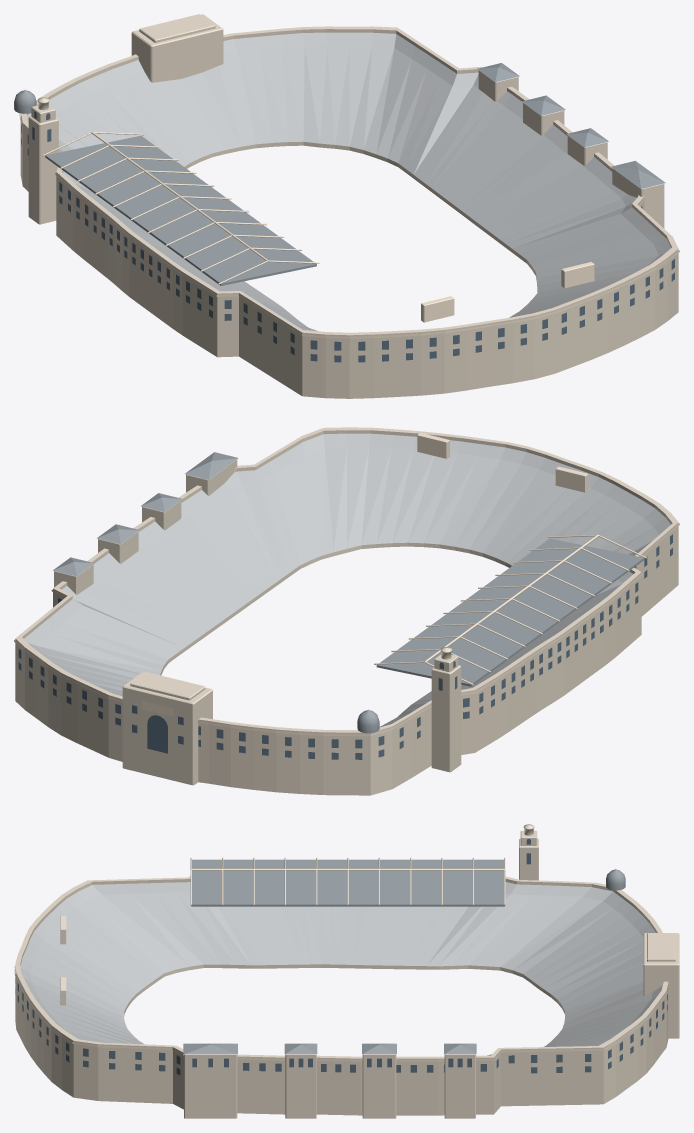
Rendered from barcelona-olympic-stadium.glb.
3 renders of one model, top to bottom at view 1: azimuth 30°, elevation 25°; view 2: azimuth 150°, elevation 25°; view 3: azimuth 270°, elevation 25°, orthographic. The views are drawn at different scales.
Parts seen in each view (by area): view 1: Estadi Olímpic Lluís Companys; view 2: Estadi Olímpic Lluís Companys; view 3: Estadi Olímpic Lluís Companys.
Boxes of the visible parts, x1,y1,x2,y2 form: Estadi Olímpic Lluís Companys: (14,14,679,398); Estadi Olímpic Lluís Companys: (14,427,679,795); Estadi Olímpic Lluís Companys: (14,824,679,1118).
Bounding box in the file's own units: 191 × 49 × 276.
